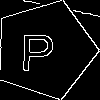P: (20, 24, 56, 71)
